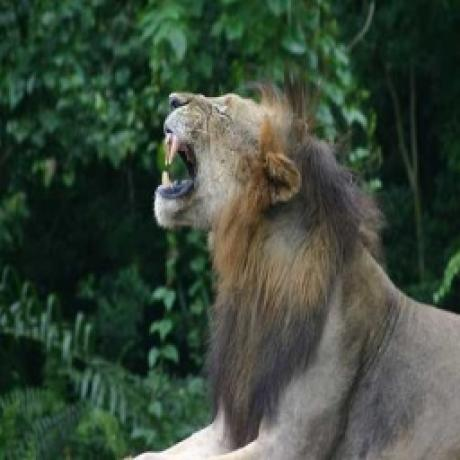Lion: (124, 68, 460, 460)
